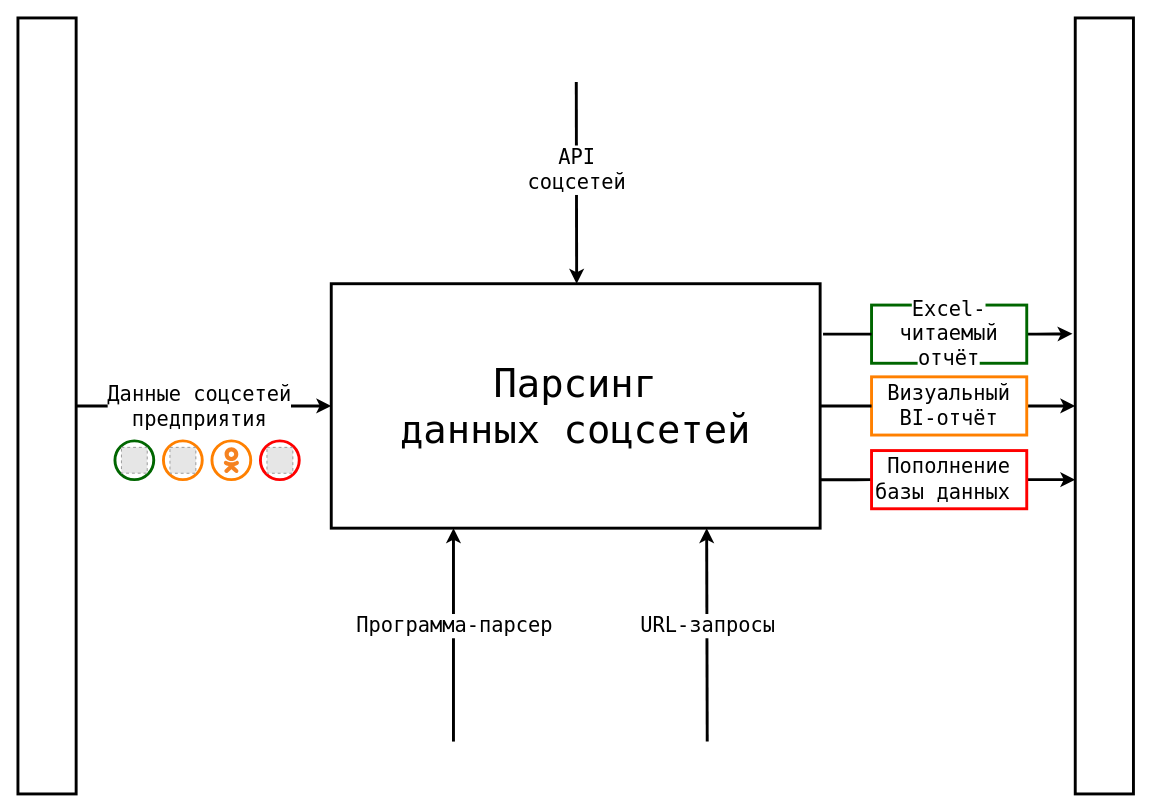
Image size: 1151x812. Some labels were removed from this diagram. Grey dashed boxes stand in for pictures. The shapes that lost their labels are listed below. From the top down, each one's centre as x and y in pixels, then its label:
point 46,405: Вход
point 1103,405: Выход
